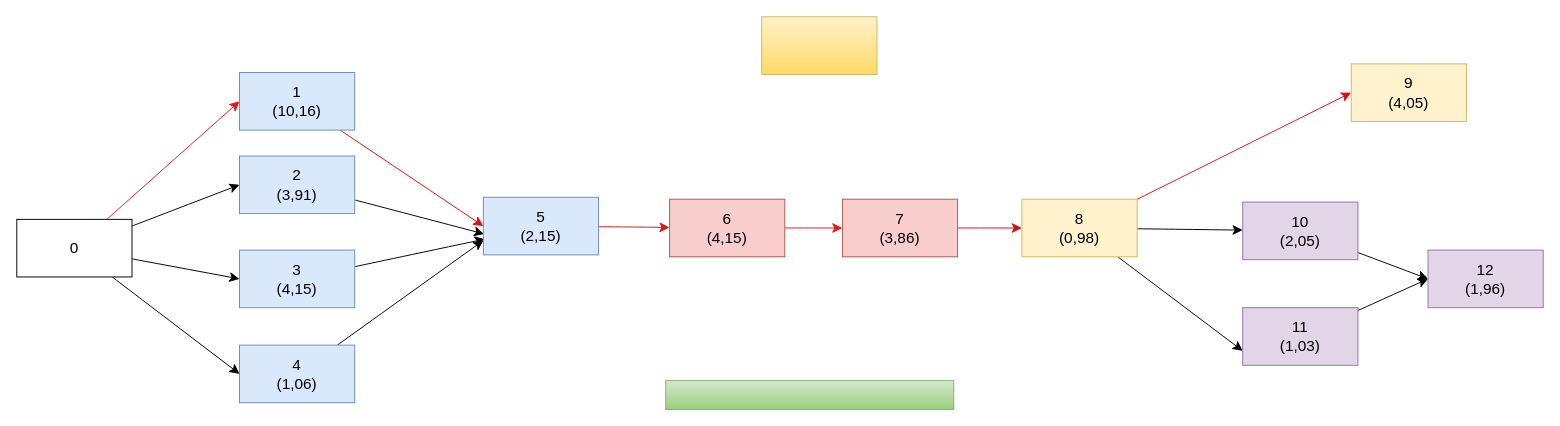
The diagram is 1560 pixels wide and 426 high, and some of its shapes have lost their labels. Each missing label, with the centre of its shape:
"ANALİZ AŞAMASI" goes at (x=819, y=45).
"KRITİK YOL:25,35 GÜN" goes at (x=809, y=394).
